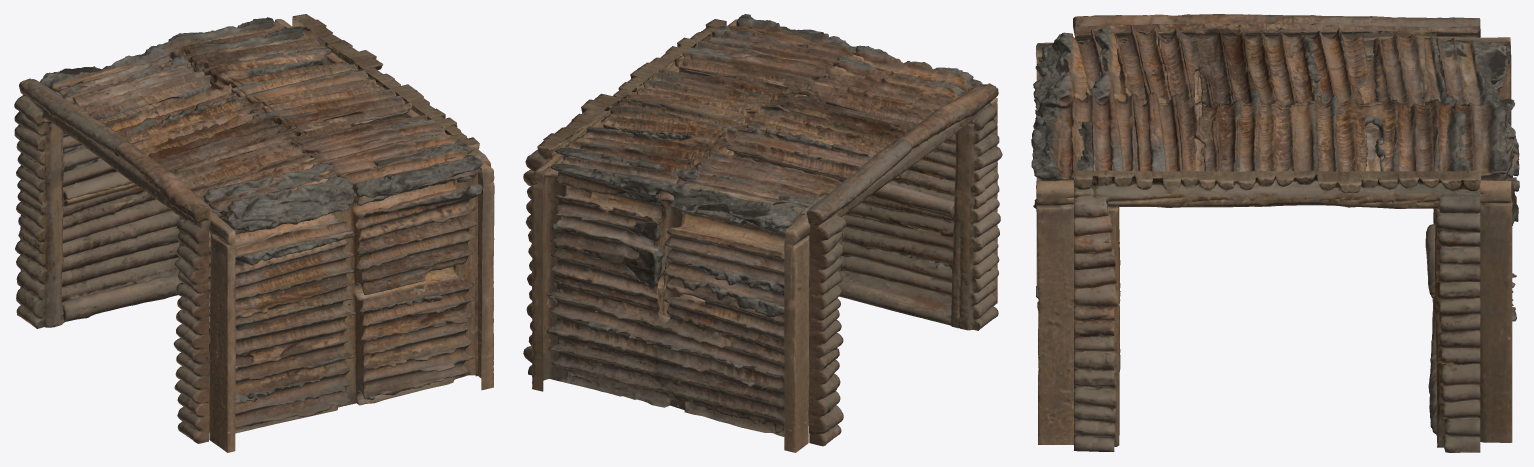
The model's file is MineAlt_Gang.glb.
3 views of the same model, side by side, from view 1: azimuth 30°, elevation 25°; view 2: azimuth 150°, elevation 25°; view 3: azimuth 270°, elevation 25° (orthographic). The views are drawn at different scales.
Visible parts, largest first — view 1: gang_b, gang_a; view 2: gang_b, gang_a; view 3: gang_a, gang_b.
Part boxes in pixels (x1,y1,x2,y2): gang_b: (19, 17, 494, 452); gang_a: (14, 14, 493, 443); gang_b: (532, 14, 997, 452); gang_a: (523, 19, 1002, 446); gang_a: (1069, 14, 1481, 452); gang_b: (1031, 29, 1519, 444).
Size of the model in its own units: 3.2 by 2.37 by 3.8.
2 materials, 2 textured.
